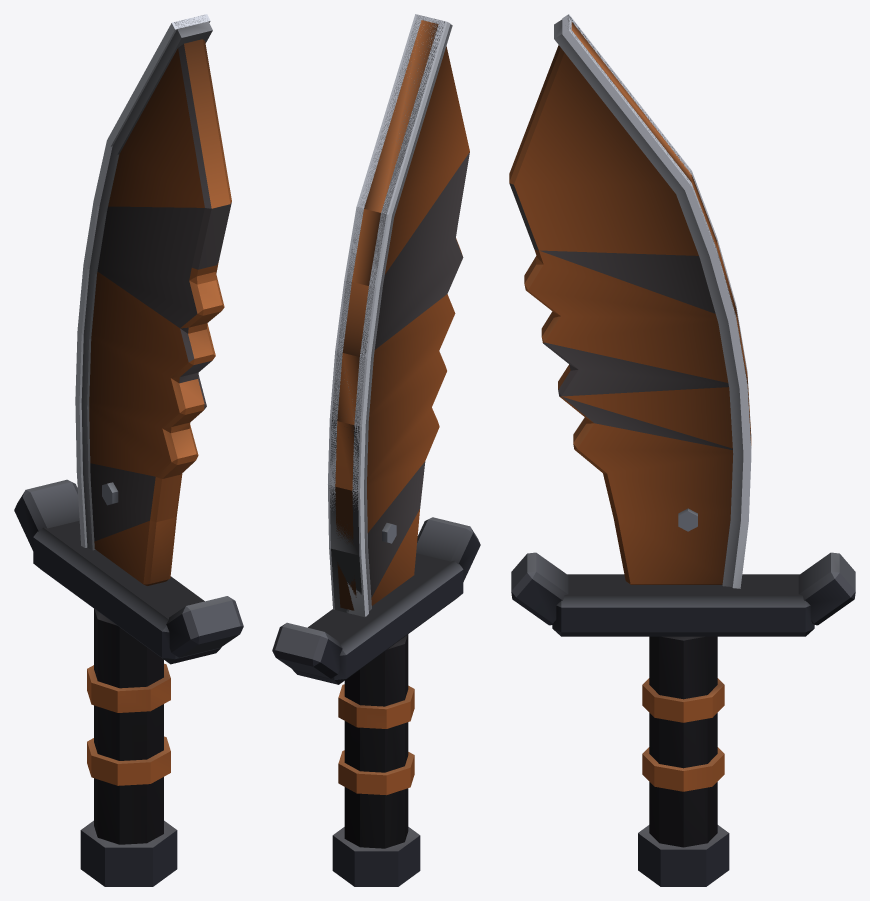
The model's file is Blade.fbx.
3 views of the same model, side by side, from view 1: azimuth 30°, elevation 25°; view 2: azimuth 150°, elevation 25°; view 3: azimuth 270°, elevation 25° (orthographic). The views are drawn at different scales.
Parts seen in each view (by area): view 1: Body, Halo_Glow, Edge_Glow; view 2: Body, Edge_Glow, Halo_Glow; view 3: Body, Halo_Glow, Edge_Glow.
Boxes of the visible parts, x1,y1,x2,y2 form: Body: (14, 39, 243, 886); Halo_Glow: (81, 15, 212, 550); Edge_Glow: (75, 14, 210, 547); Body: (272, 20, 480, 886); Edge_Glow: (328, 14, 450, 617); Halo_Glow: (329, 15, 452, 612); Body: (509, 22, 855, 886); Halo_Glow: (554, 15, 751, 586); Edge_Glow: (562, 14, 751, 588).
Bounding box in the file's own units: 0.36 × 4.1 × 1.52.
